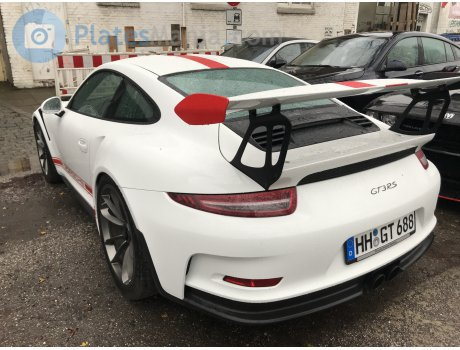License Plates: (348, 229, 415, 247)
